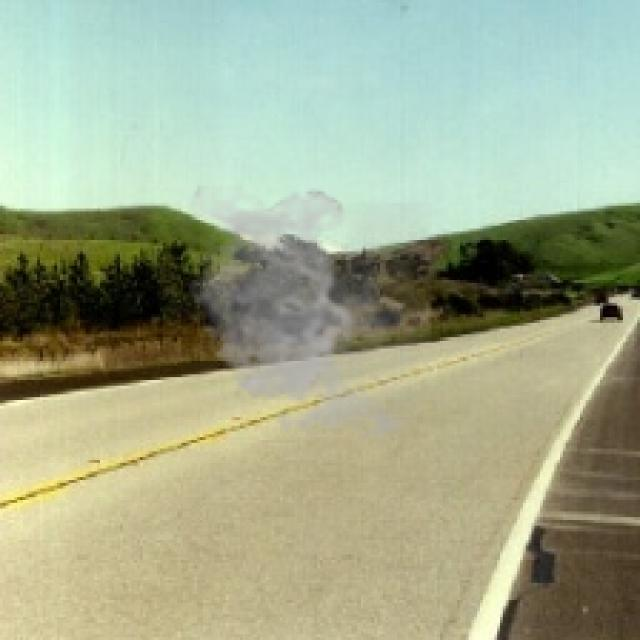smoke: (180, 185, 431, 448)
